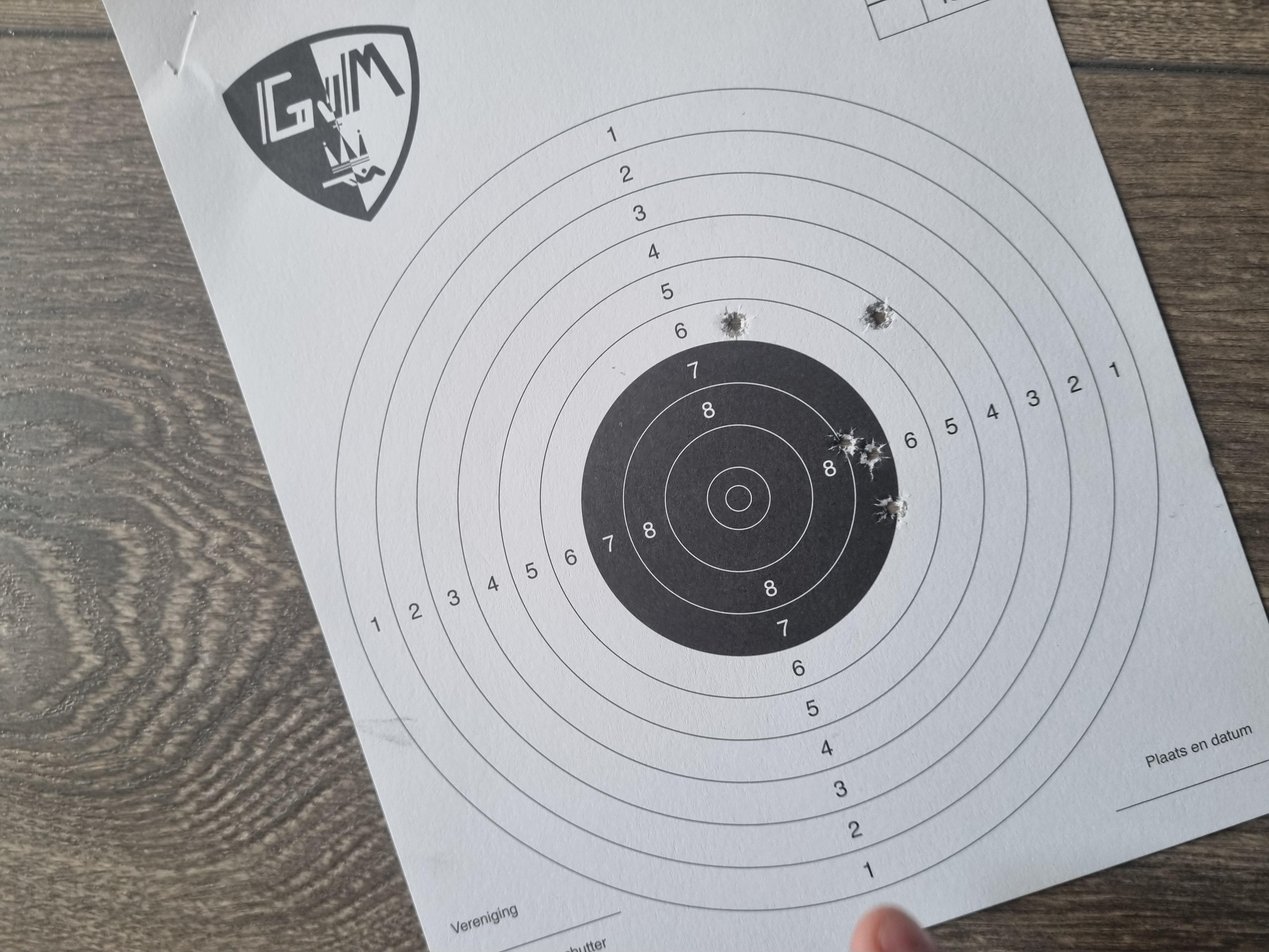hole: (629, 644, 685, 669), (825, 644, 869, 672), (568, 655, 612, 682), (653, 621, 701, 644), (818, 539, 861, 562)
